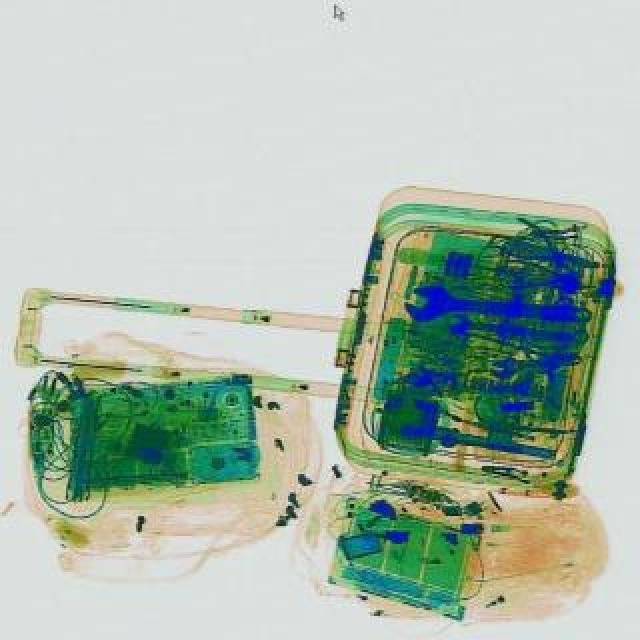scissors: (402, 282, 590, 330), (444, 312, 594, 350), (484, 348, 578, 380)
wrench: (490, 214, 600, 290), (498, 256, 584, 300)
